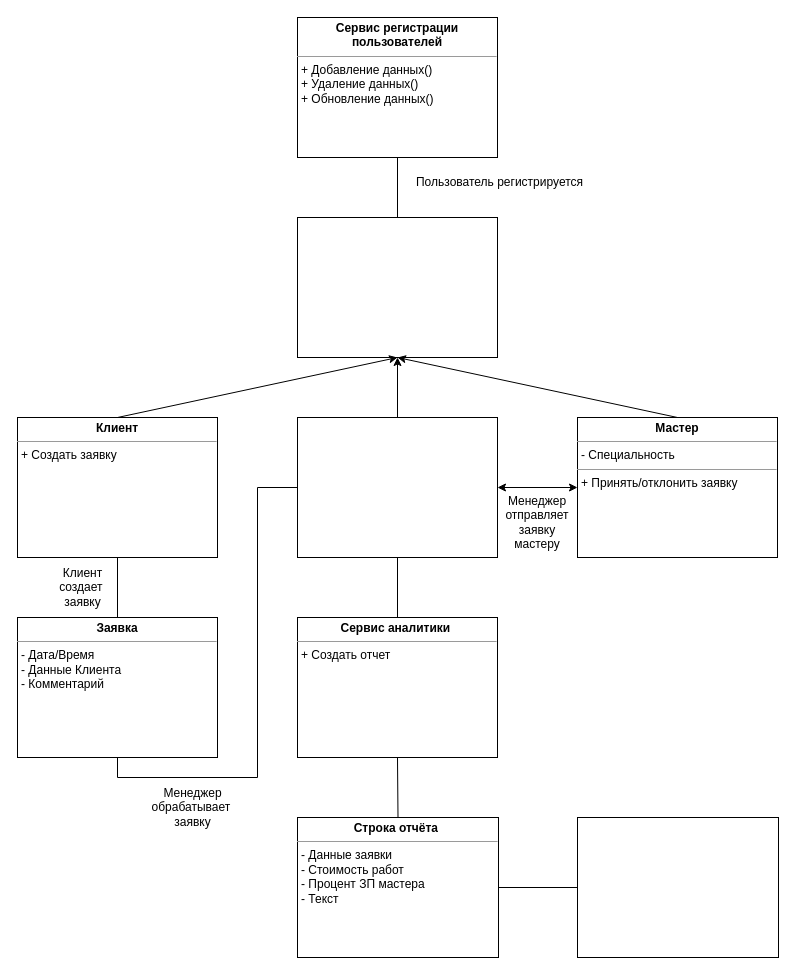
Image size: 796x975. Some labels were removed from this diagram. The box of each missing label's shape, as (x1, y1, x2, y2) in pixels:
Менеджер + Принять/отклонить заявку + Сообщить мастеру о заявке: (296, 416, 498, 558)
Отчёт - Множество строк отчёта + Добавить строку отчёта: (576, 816, 778, 958)
Пользователь - Фамилия - Имя - Отчество - Номер телефона: (296, 216, 498, 358)
